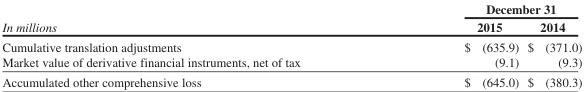table: (1, 1, 581, 88)
table column: (1, 1, 381, 88), (381, 1, 522, 88), (522, 1, 581, 88)
table column header: (1, 1, 581, 36)
table row: (1, 17, 581, 36), (1, 36, 581, 54), (1, 54, 581, 71), (1, 71, 581, 88), (1, 1, 581, 17)
table spanning cell: (1, 1, 381, 36), (381, 1, 581, 17)
